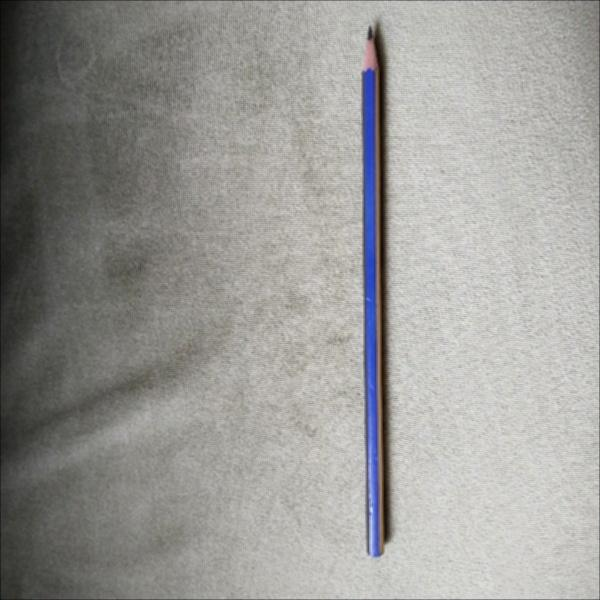pencil: (350, 24, 392, 566)
